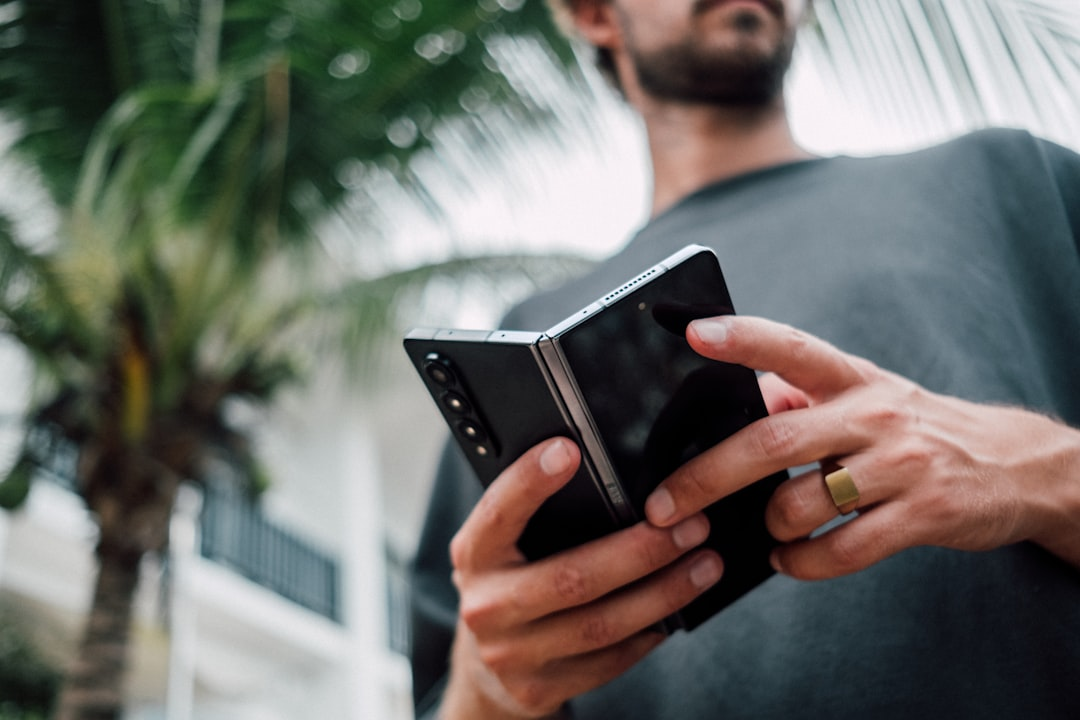phone: (403, 239, 805, 644)
